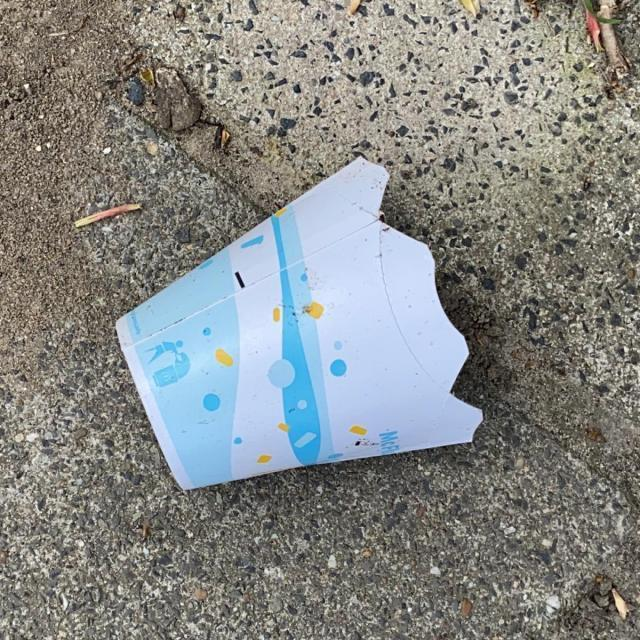Paper: (109, 152, 488, 494)
